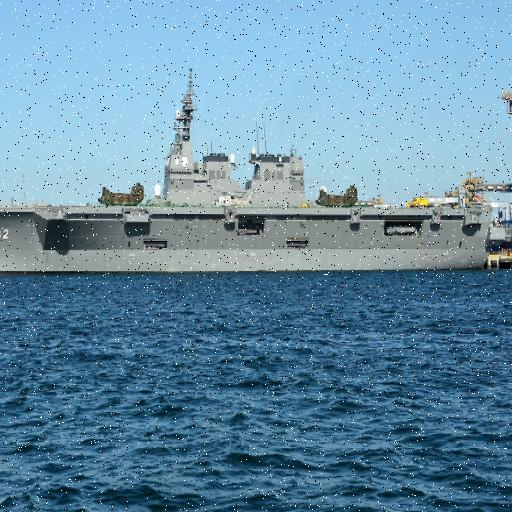Portanaves: (1, 63, 500, 283)
